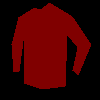abbigliamento_uomo: (11, 2, 91, 89)
